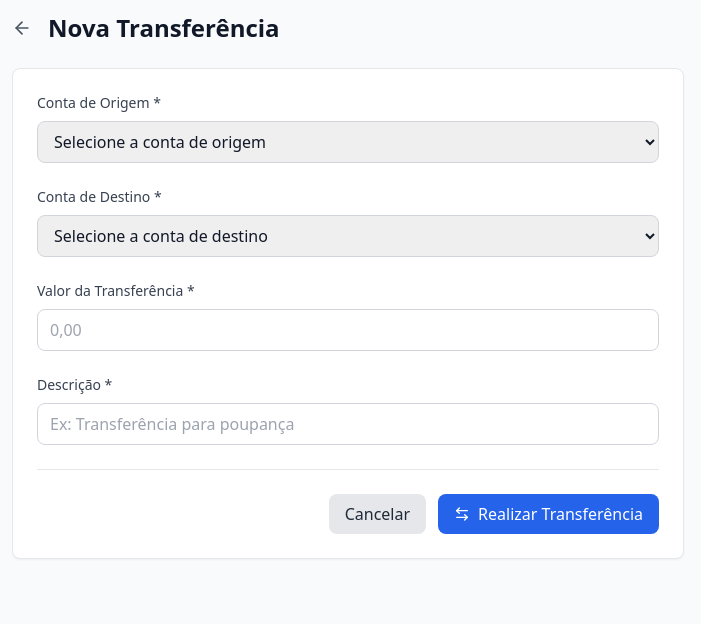
TransferForm › deve mostrar saldo após transferência
// Seleciona conta de origem
Select "Conta Corrente (Corrente) - R$ 5.000,00" in the dropdown labelled "Conta de Origem *" at (348, 142), box [37,121,659,163]
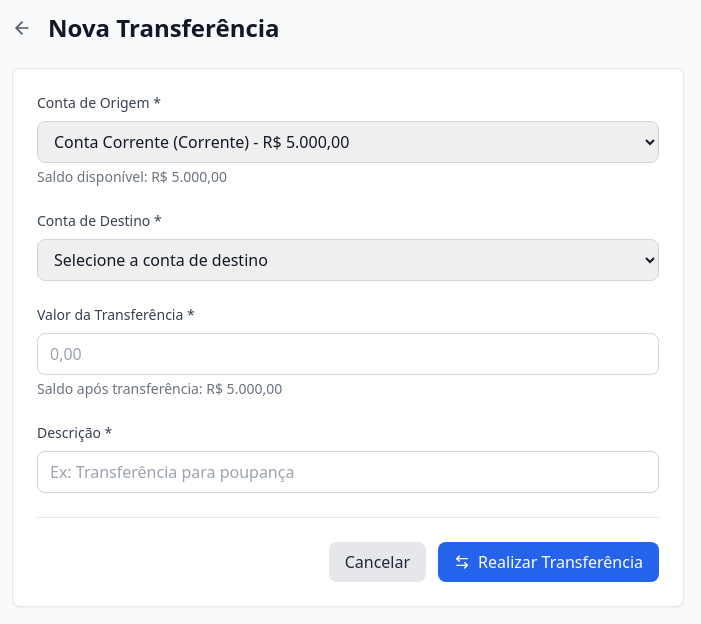
// Insere valor válido
Type "1000" into the field labelled "Valor da Transferência *".
click(348, 354); type("1000")  # box [37,333,659,375]
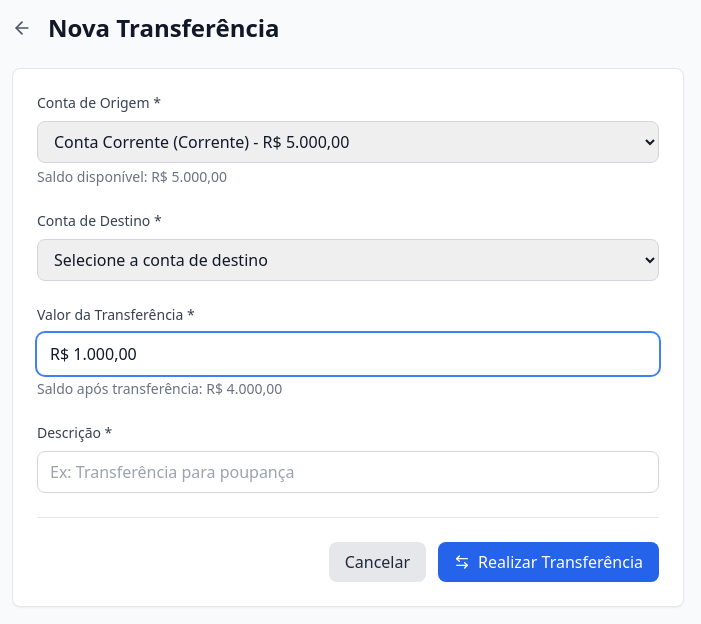
Result: the text "Saldo após transferência: R$ 4.000,00" is shown at [37,379,282,398]
